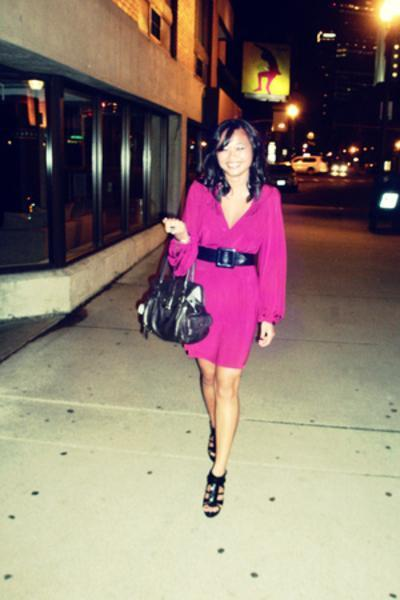bag: (136, 266, 211, 346)
dress: (168, 182, 286, 368)
shoe: (204, 469, 226, 506)
